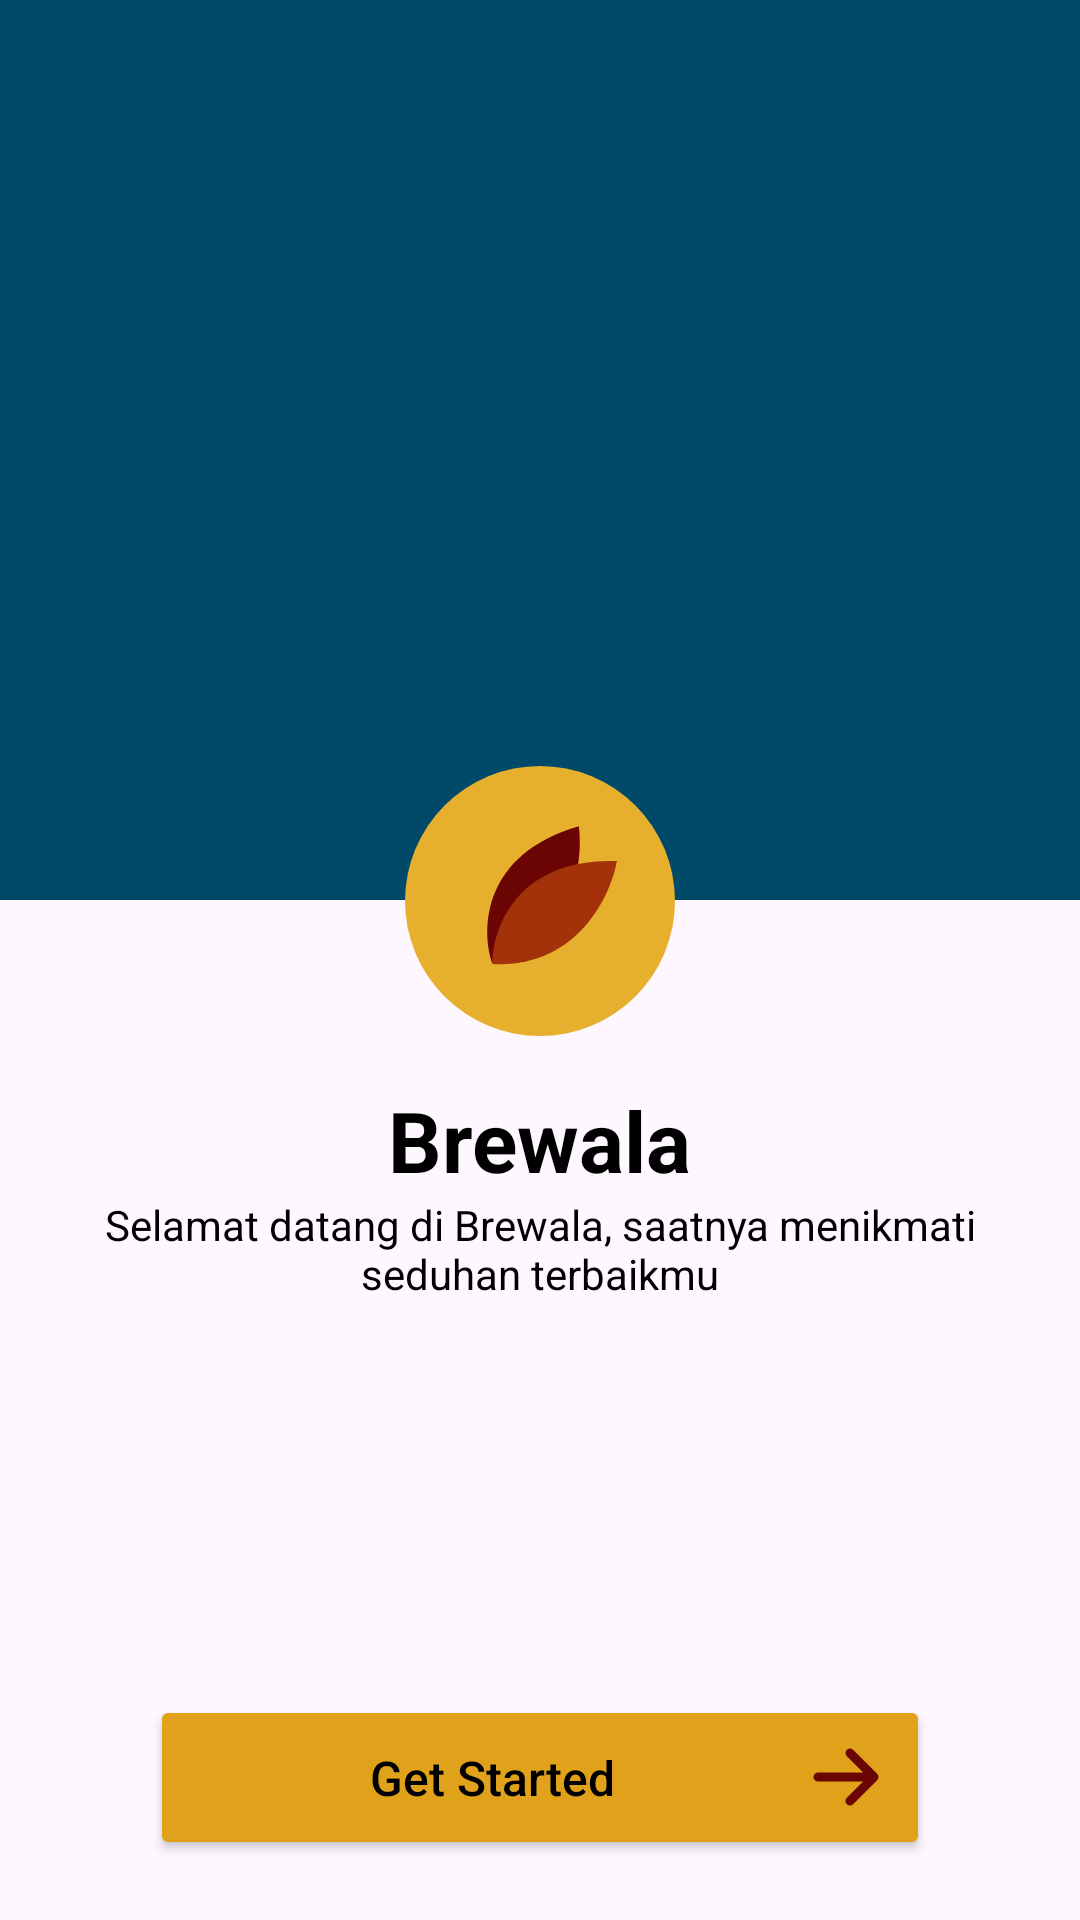

Where to tap for icons on this 1080px×1920px app screen, as (x,y):
brand: (540,901)
